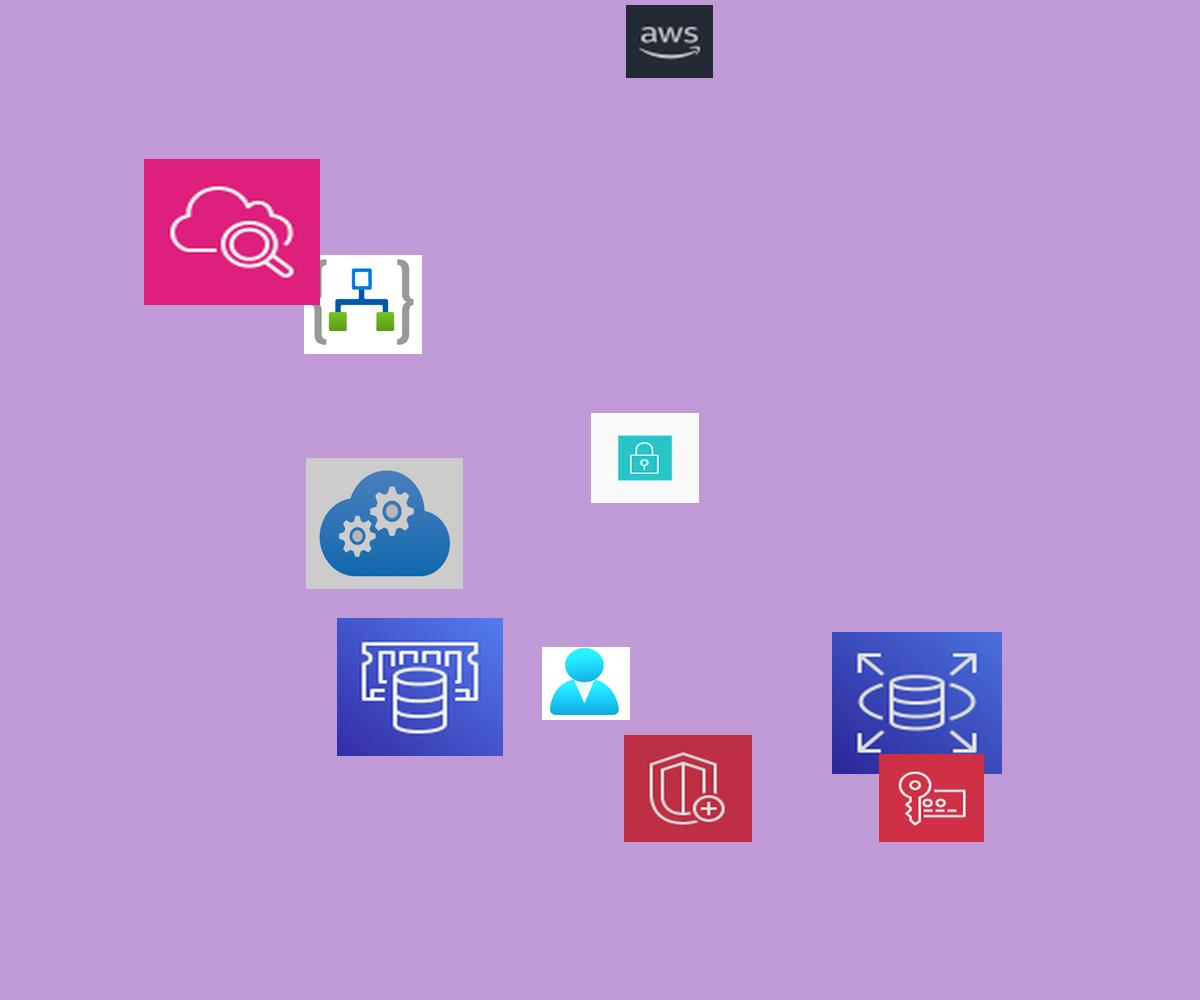AWS-Cloud-logo: (626, 5, 713, 78)
AWS-CloudWatch: (144, 159, 320, 305)
AWS-ElastiCache: (337, 618, 503, 756)
AWS-Key-Management-Service: (879, 754, 984, 842)
AWS-Private-subnet: (591, 413, 699, 503)
AWS-RDS: (832, 632, 1002, 774)
AWS-Shield: (624, 735, 752, 842)
Azure_cloud_services: (306, 458, 463, 589)
Azure_integration-204-Logic-Apps: (304, 255, 422, 354)
Azure_users: (542, 647, 630, 720)
